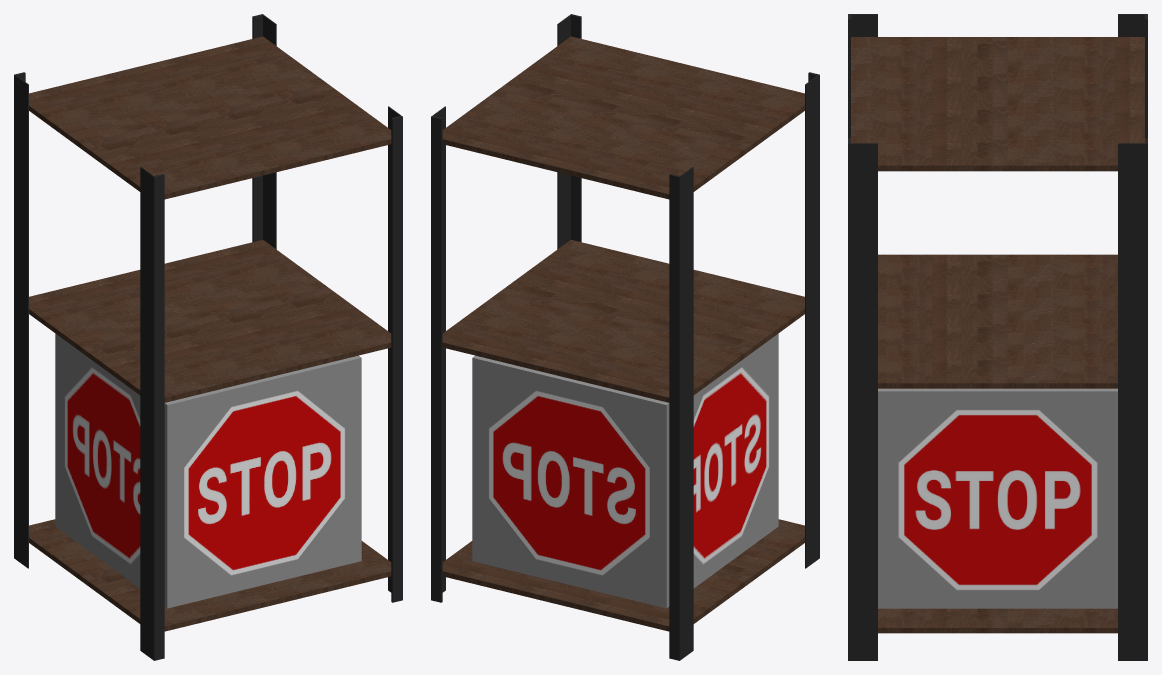
Rendered from rack_stop.dae.
3 renders of one model, left to right at view 1: azimuth 30°, elevation 25°; view 2: azimuth 150°, elevation 25°; view 3: azimuth 270°, elevation 25°, orthographic. The views are drawn at different scales.
Visible parts, largest first — view 1: Cube.001, Family2 Family2 [5175].001, Family2 Family2 [5175].002, Extrusion [3348], Family2 Family2 [5175]; view 2: Cube.001, Family2 Family2 [5175].001, Family2 Family2 [5175].002, Extrusion [3348], Family2 Family2 [5175]; view 3: Cube.001, Family2 Family2 [5175].001, Extrusion [3348], Family2 Family2 [5175].002, Family2 Family2 [5175].
Part boxes in pixels (left/top/right/bottom): Cube.001: left=55, top=333, right=361, bottom=608; Family2 Family2 [5175].001: left=29, top=36, right=391, bottom=199; Family2 Family2 [5175].002: left=29, top=240, right=391, bottom=402; Extrusion [3348]: left=14, top=14, right=402, bottom=660; Family2 Family2 [5175]: left=29, top=519, right=391, bottom=631; Cube.001: left=472, top=333, right=778, bottom=608; Family2 Family2 [5175].001: left=442, top=36, right=804, bottom=199; Family2 Family2 [5175].002: left=442, top=240, right=804, bottom=402; Extrusion [3348]: left=431, top=14, right=819, bottom=660; Family2 Family2 [5175]: left=442, top=519, right=804, bottom=631; Cube.001: left=878, top=388, right=1117, bottom=608; Family2 Family2 [5175].001: left=851, top=37, right=1144, bottom=171; Extrusion [3348]: left=848, top=14, right=1147, bottom=660; Family2 Family2 [5175].002: left=878, top=254, right=1117, bottom=388; Family2 Family2 [5175]: left=878, top=608, right=1117, bottom=633.
Bounding box in the file's own units: 0.5118 × 0.5 × 0.9514.
3 materials, 2 textured.
